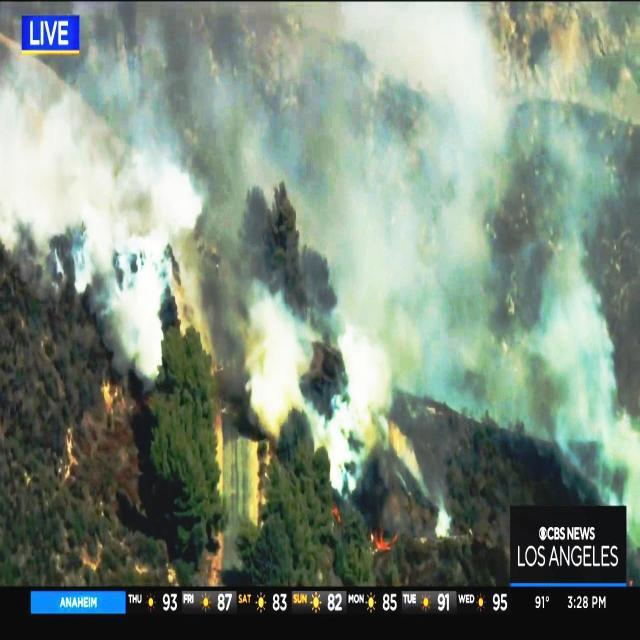Fire: (366, 523, 400, 558), (330, 505, 344, 527)
Smoke: (0, 5, 640, 258), (214, 269, 640, 499), (81, 266, 172, 390), (433, 505, 458, 549)
